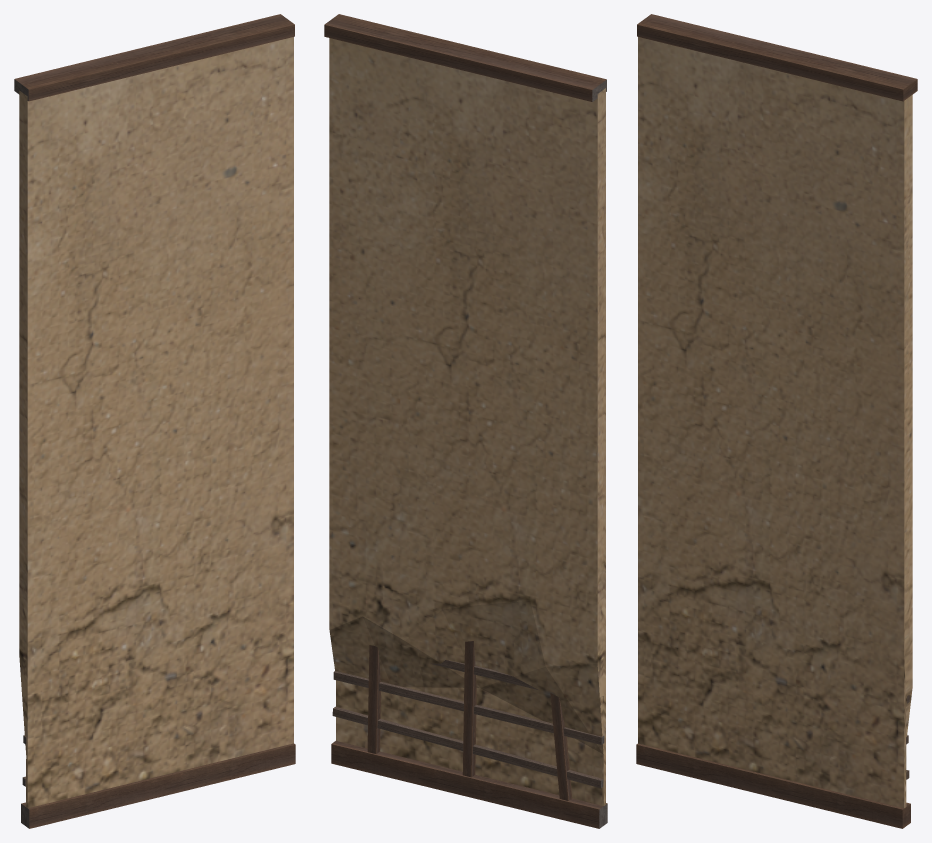
Rendered from outwall12_0t.fbx.
3 views of the same model, side by side, from view 1: azimuth 30°, elevation 25°; view 2: azimuth 150°, elevation 25°; view 3: azimuth 330°, elevation 25° (orthographic).
Visible parts, largest first — view 1: outwall12_0t; view 2: outwall12_0t; view 3: outwall12_0t.
Boxes of the visible parts, x1,y1,x2,y2 form: outwall12_0t: (14,14,295,828); outwall12_0t: (324,14,607,828); outwall12_0t: (636,14,917,828).
Size of the model in its own units: 110 by 292 by 10.84.
